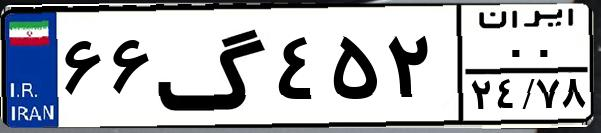0: (537, 27, 568, 80), (508, 27, 537, 80)
2: (385, 28, 445, 110), (470, 70, 495, 125)
4: (270, 28, 330, 110), (495, 70, 520, 125)
5: (330, 28, 385, 110)
6: (57, 26, 110, 100), (110, 28, 156, 98)
7: (535, 70, 560, 125)
8: (560, 70, 590, 125)
گ: (156, 12, 270, 120)
